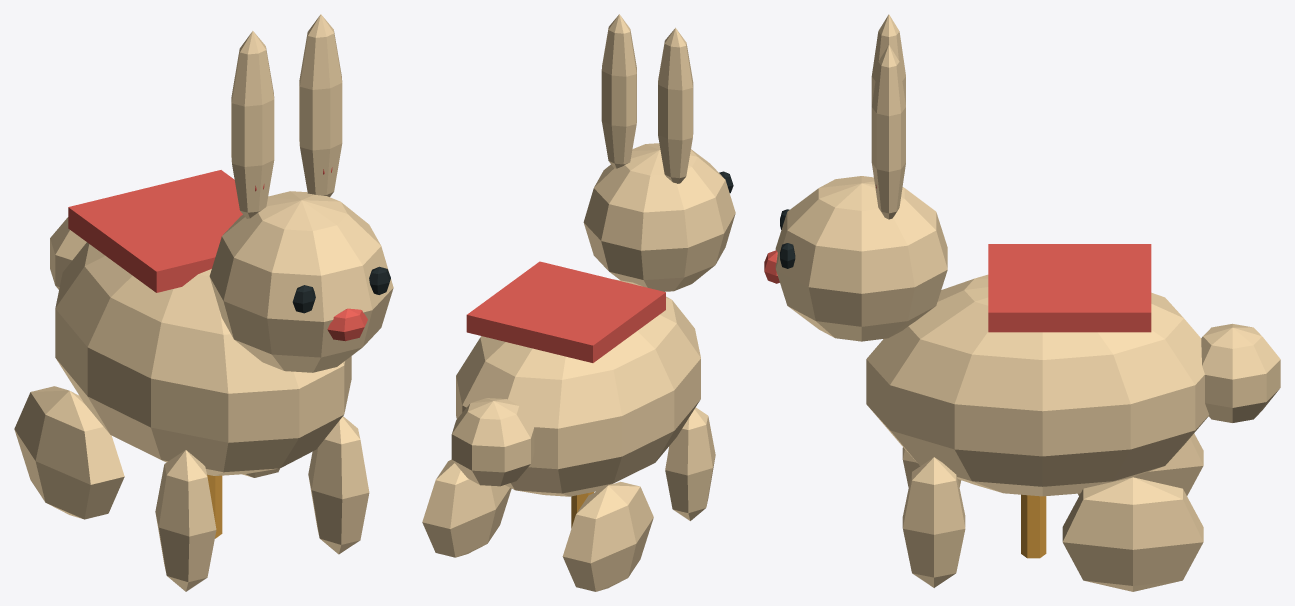
The model's file is ParkParkBunny.obj.
3 views of the same model, side by side, from view 1: azimuth 30°, elevation 25°; view 2: azimuth 150°, elevation 25°; view 3: azimuth 270°, elevation 25° (orthographic). The views are drawn at different scales.
Visible parts, largest first — view 1: ParkParkBunny; view 2: ParkParkBunny; view 3: ParkParkBunny.
Boxes of the visible parts, x1=… form: ParkParkBunny: x1=14, y1=14, x2=393, y2=591; ParkParkBunny: x1=422, y1=14, x2=735, y2=591; ParkParkBunny: x1=764, y1=14, x2=1280, y2=591.
Size of the model in its own units: 1.4 by 3.2 by 2.86.
